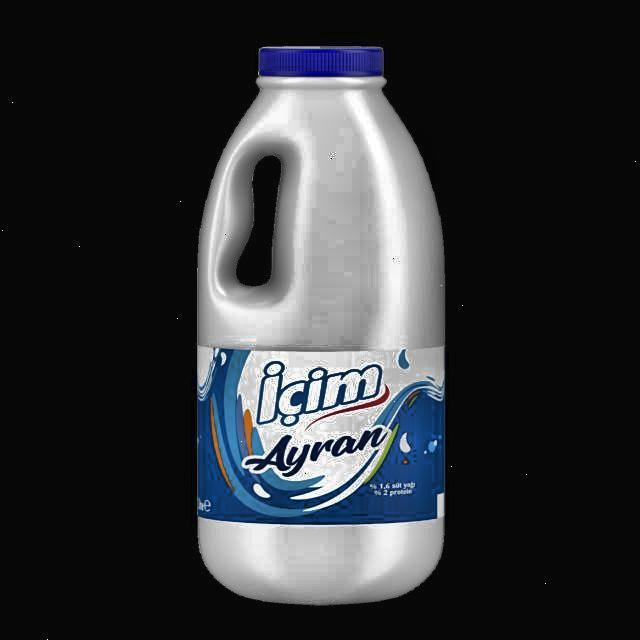plastic: (198, 46, 446, 608)
